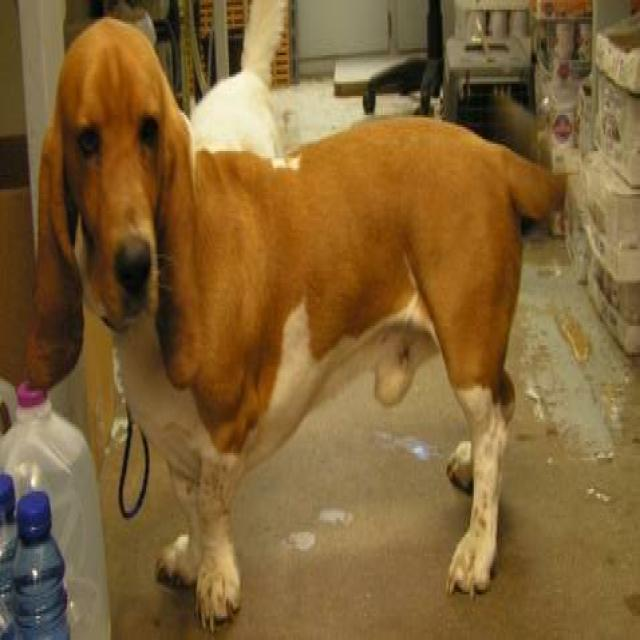dog: (24, 14, 568, 630)
